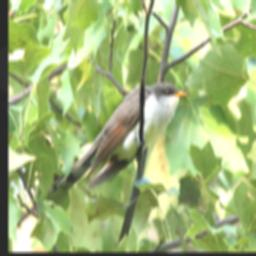Cuckoo: (46, 77, 186, 193)
